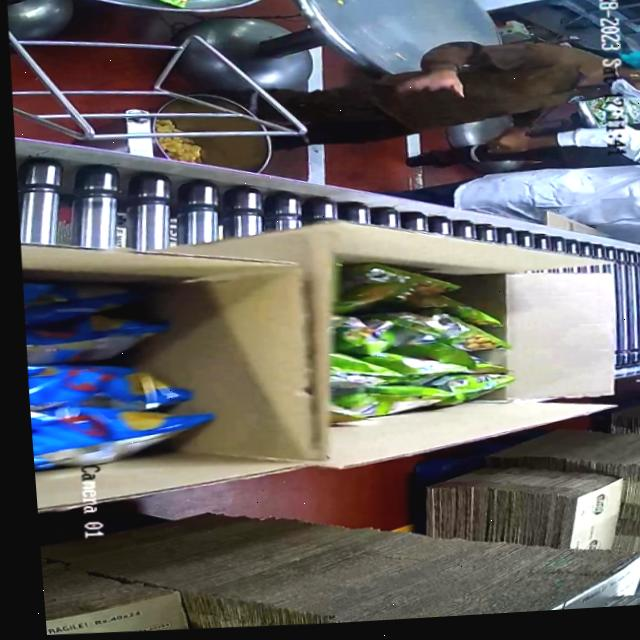PAPRIKA: (20, 264, 224, 474)
